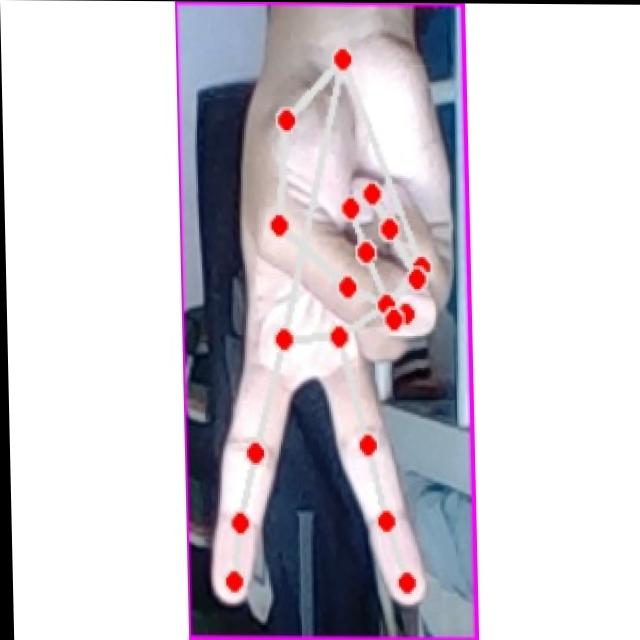V: (194, 29, 463, 615)
